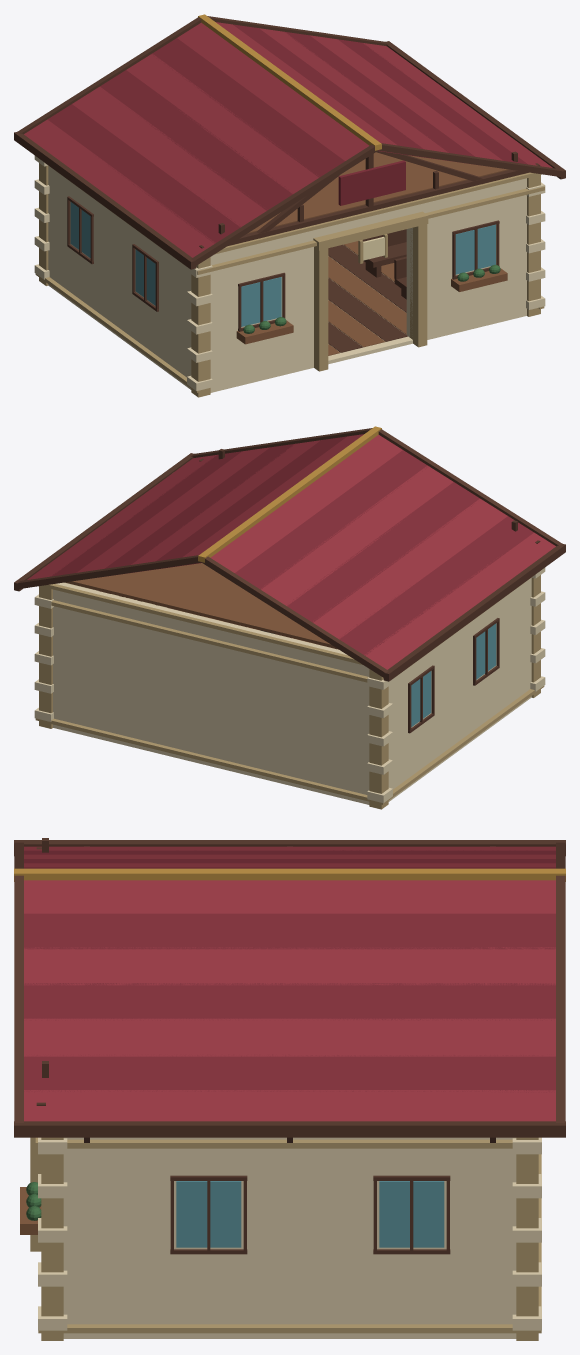
Rendered from QuestHall.glb.
3 views of the same model, one above another, from view 1: azimuth 30°, elevation 25°; view 2: azimuth 150°, elevation 25°; view 3: azimuth 270°, elevation 25° (orthographic). The views are drawn at different scales.
Visible parts, largest first — view 1: QuestHall_002_Side, QuestHall_040_FrontWing, QuestHall_003_FrontWing, QuestHall_097_RoofTileBand, QuestHall_096_RoofTileBand, QuestHall_095_RoofTileBand, QuestHall_094_RoofTileBand, QuestHall_098_RoofTileBand, QuestHall_093_RoofTileBand, QuestHall_099_RoofTileBand, QuestHall_124_Ceiling, QuestHall_110_RoofTileBand (+40 smaller); view 2: QuestHall_001_Rear, QuestHall_002_Side, QuestHall_124_Ceiling, QuestHall_097_RoofTileBand, QuestHall_096_RoofTileBand, QuestHall_095_RoofTileBand, QuestHall_098_RoofTileBand, QuestHall_094_RoofTileBand, QuestHall_093_RoofTileBand, QuestHall_099_RoofTileBand, QuestHall_110_RoofTileBand, QuestHall_107_RoofTileBand (+22 smaller); view 3: QuestHall_039_Side, QuestHall_110_RoofTileBand, QuestHall_108_RoofTileBand, QuestHall_107_RoofTileBand, QuestHall_109_RoofTileBand, QuestHall_111_RoofTileBand, QuestHall_106_RoofTileBand, QuestHall_112_RoofTileBand, QuestHall_115_Eave, QuestHall_119_Ridge, QuestHall_080_SideCourse, QuestHall_084_SideCourse (+14 smaller).
Boxes of the visible parts, x1=… form: QuestHall_002_Side: x1=48, y1=166, x2=191, y2=389; QuestHall_040_FrontWing: x1=406, y1=178, x2=525, y2=339; QuestHall_003_FrontWing: x1=210, y1=228, x2=322, y2=392; QuestHall_097_RoofTileBand: x1=72, y1=86, x2=267, y2=227; QuestHall_096_RoofTileBand: x1=100, y1=70, x2=293, y2=210; QuestHall_095_RoofTileBand: x1=126, y1=53, x2=319, y2=193; QuestHall_094_RoofTileBand: x1=151, y1=38, x2=344, y2=177; QuestHall_098_RoofTileBand: x1=47, y1=104, x2=240, y2=243; QuestHall_093_RoofTileBand: x1=177, y1=22, x2=369, y2=160; QuestHall_099_RoofTileBand: x1=24, y1=119, x2=215, y2=257; QuestHall_124_Ceiling: x1=247, y1=152, x2=509, y2=233; QuestHall_110_RoofTileBand: x1=310, y1=35, x2=503, y2=160; QuestHall_001_Rear: x1=53, y1=582, x2=369, y2=803; QuestHall_002_Side: x1=388, y1=578, x2=531, y2=800; QuestHall_124_Ceiling: x1=65, y1=563, x2=337, y2=648; QuestHall_097_RoofTileBand: x1=313, y1=498, x2=507, y2=639; QuestHall_096_RoofTileBand: x1=287, y1=482, x2=479, y2=622; QuestHall_095_RoofTileBand: x1=261, y1=465, x2=453, y2=605; QuestHall_098_RoofTileBand: x1=339, y1=516, x2=533, y2=655; QuestHall_094_RoofTileBand: x1=235, y1=450, x2=428, y2=589; QuestHall_093_RoofTileBand: x1=210, y1=434, x2=402, y2=572; QuestHall_099_RoofTileBand: x1=364, y1=532, x2=555, y2=669; QuestHall_110_RoofTileBand: x1=76, y1=447, x2=269, y2=577; QuestHall_107_RoofTileBand: x1=152, y1=436, x2=346, y2=569; QuestHall_039_Side: x1=63, y1=1137, x2=516, y2=1338; QuestHall_110_RoofTileBand: x1=24, y1=1018, x2=555, y2=1056; QuestHall_108_RoofTileBand: x1=24, y1=947, x2=555, y2=985; QuestHall_107_RoofTileBand: x1=24, y1=913, x2=555, y2=949; QuestHall_109_RoofTileBand: x1=24, y1=983, x2=555, y2=1020; QuestHall_111_RoofTileBand: x1=24, y1=1054, x2=555, y2=1092; QuestHall_106_RoofTileBand: x1=24, y1=880, x2=555, y2=913; QuestHall_112_RoofTileBand: x1=24, y1=1090, x2=555, y2=1121; QuestHall_115_Eave: x1=14, y1=1121, x2=565, y2=1137; QuestHall_119_Ridge: x1=14, y1=868, x2=565, y2=881; QuestHall_080_SideCourse: x1=38, y1=1324, x2=541, y2=1333; QuestHall_084_SideCourse: x1=67, y1=1139, x2=512, y2=1148.
Bounding box in the file's own units: 33.28 × 18.44 × 27.2.
